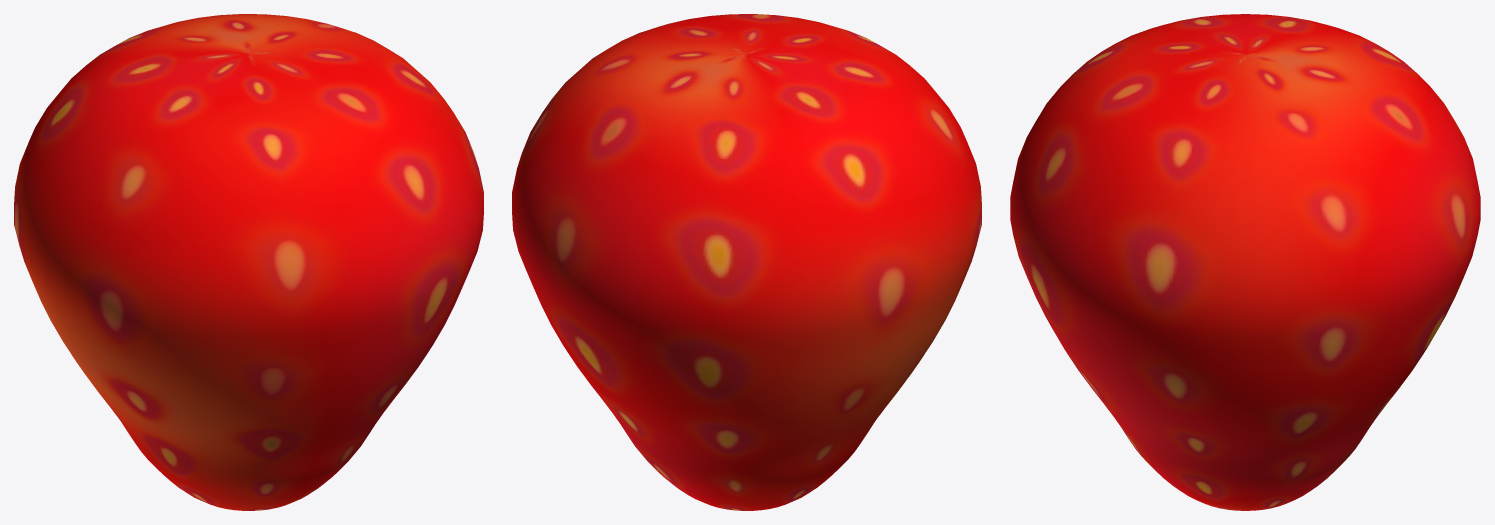
Rendered from body.glb.
The picture shows the model from 3 angles, left to right: view 1: azimuth 30°, elevation 25°; view 2: azimuth 150°, elevation 25°; view 3: azimuth 270°, elevation 25°; orthographic projection.
Parts seen in each view (by area): view 1: polySurface18; view 2: polySurface18; view 3: polySurface18.
Part boxes in pixels (<box>): polySurface18: <box>14,14,483,510</box>; polySurface18: <box>512,14,981,510</box>; polySurface18: <box>1010,14,1480,510</box>.
Size of the model in its own units: 5.27 by 5.48 by 5.27.
Materials: 1 (1 with a texture image).
